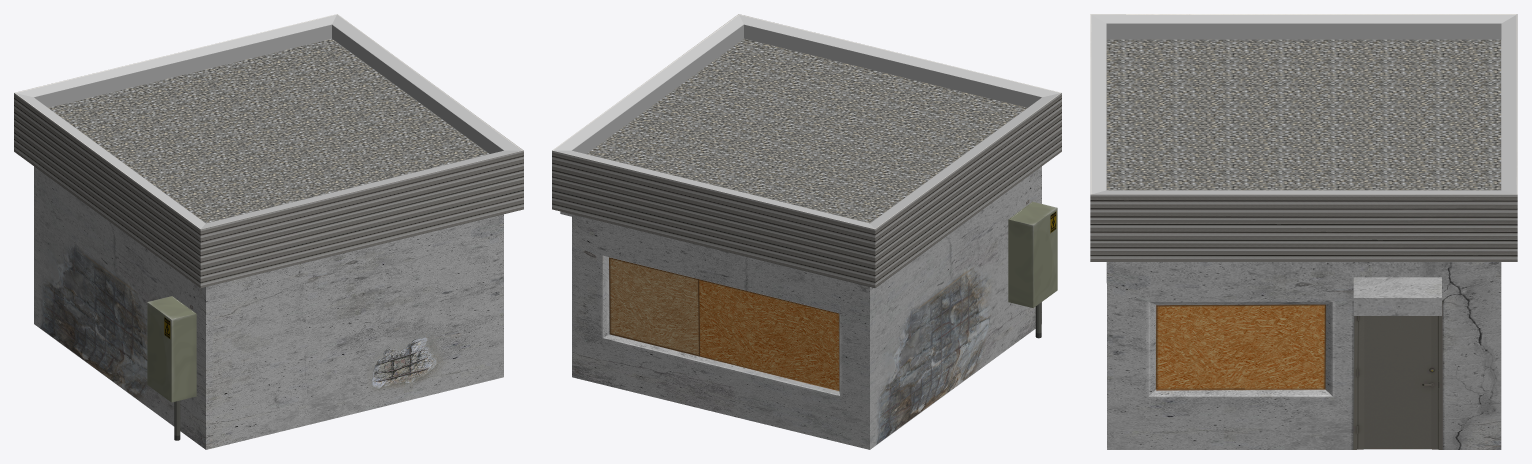
File: 4x4building.fbx
3 views of the same model, side by side, from view 1: azimuth 30°, elevation 25°; view 2: azimuth 150°, elevation 25°; view 3: azimuth 270°, elevation 25° (orthographic). The views are drawn at different scales.
Parts seen in each view (by area): view 1: Cube; view 2: Cube; view 3: Cube.
Part boxes in pixels (x1=…): Cube: x1=14, y1=14, x2=523, y2=449; Cube: x1=552, y1=14, x2=1061, y2=449; Cube: x1=1090, y1=14, x2=1517, y2=449.
Bounding box in the file's own units: 1022 × 620 × 916.
